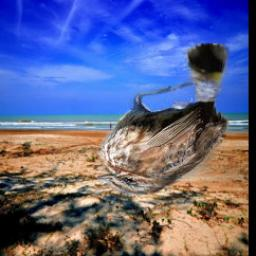Sparrow: (96, 43, 228, 196)
